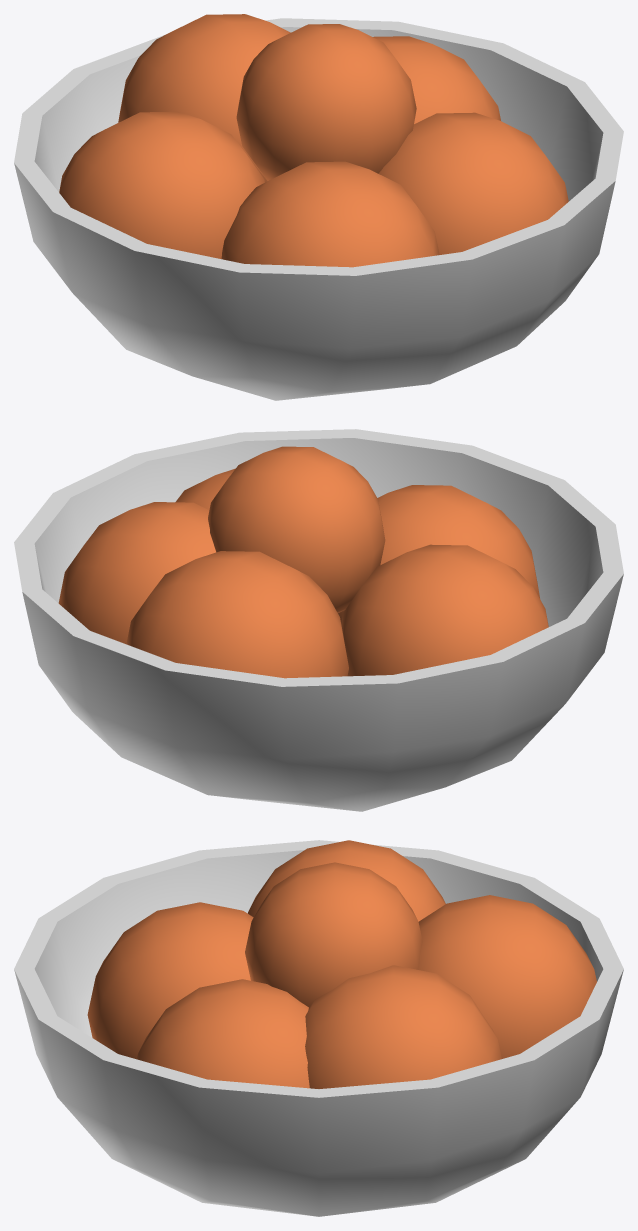
File: Fruitbowl.fbx
3 views of the same model, one above another, from view 1: azimuth 30°, elevation 25°; view 2: azimuth 150°, elevation 25°; view 3: azimuth 270°, elevation 25° (orthographic).
Visible parts, largest first — view 1: Fruitbowl; view 2: Fruitbowl; view 3: Fruitbowl.
Part boxes in pixels (left/top/right/bottom): Fruitbowl: left=14, top=14, right=623, bottom=400; Fruitbowl: left=14, top=429, right=623, bottom=811; Fruitbowl: left=14, top=840, right=623, bottom=1216.
Bounding box in the file's own units: 0.5767 × 0.3217 × 0.5767.
